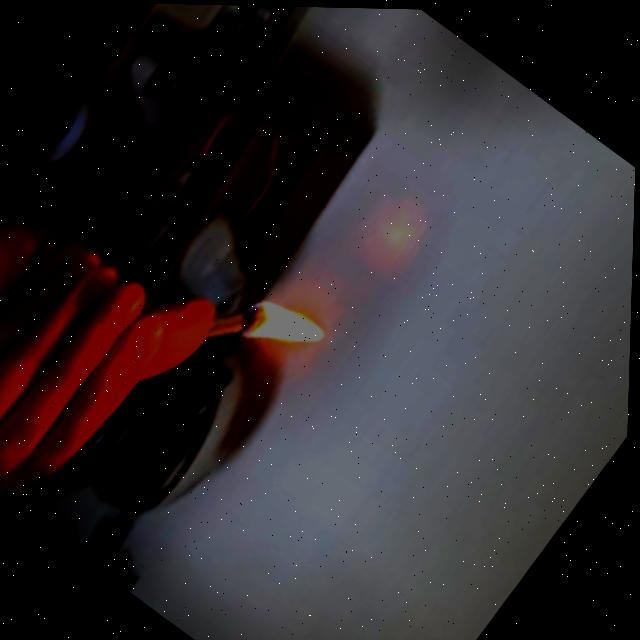Fire: (227, 274, 341, 381)
